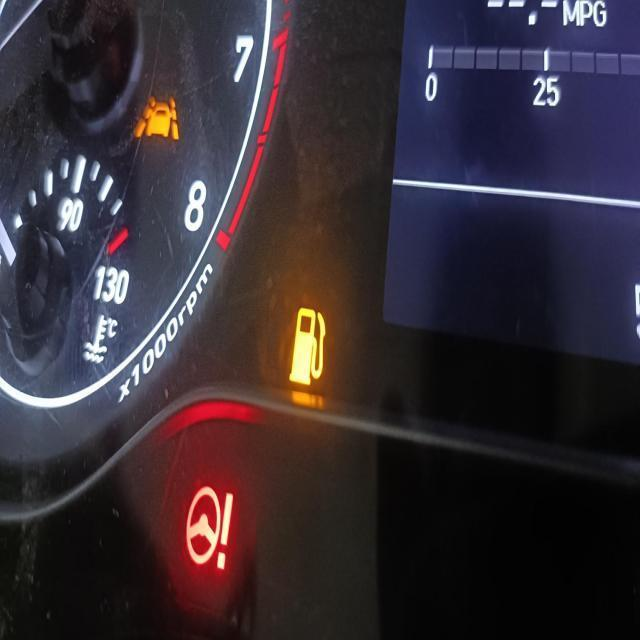Electronic Power Steering: (181, 466, 238, 584)
